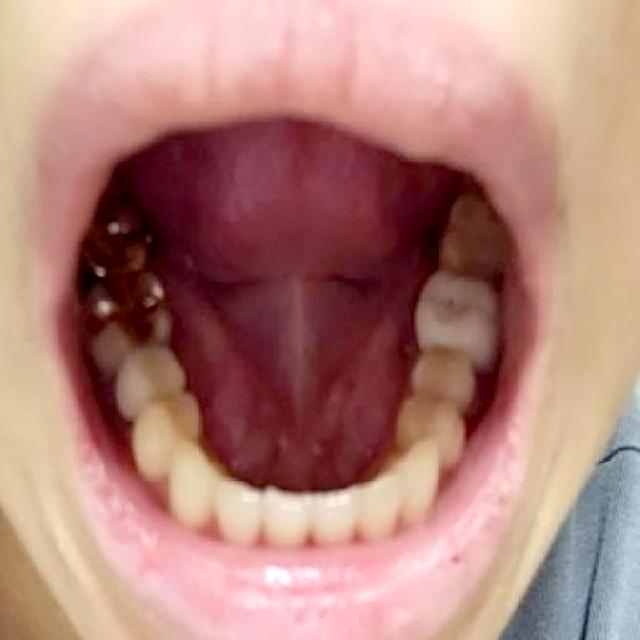Plaque: (443, 293, 457, 312)
